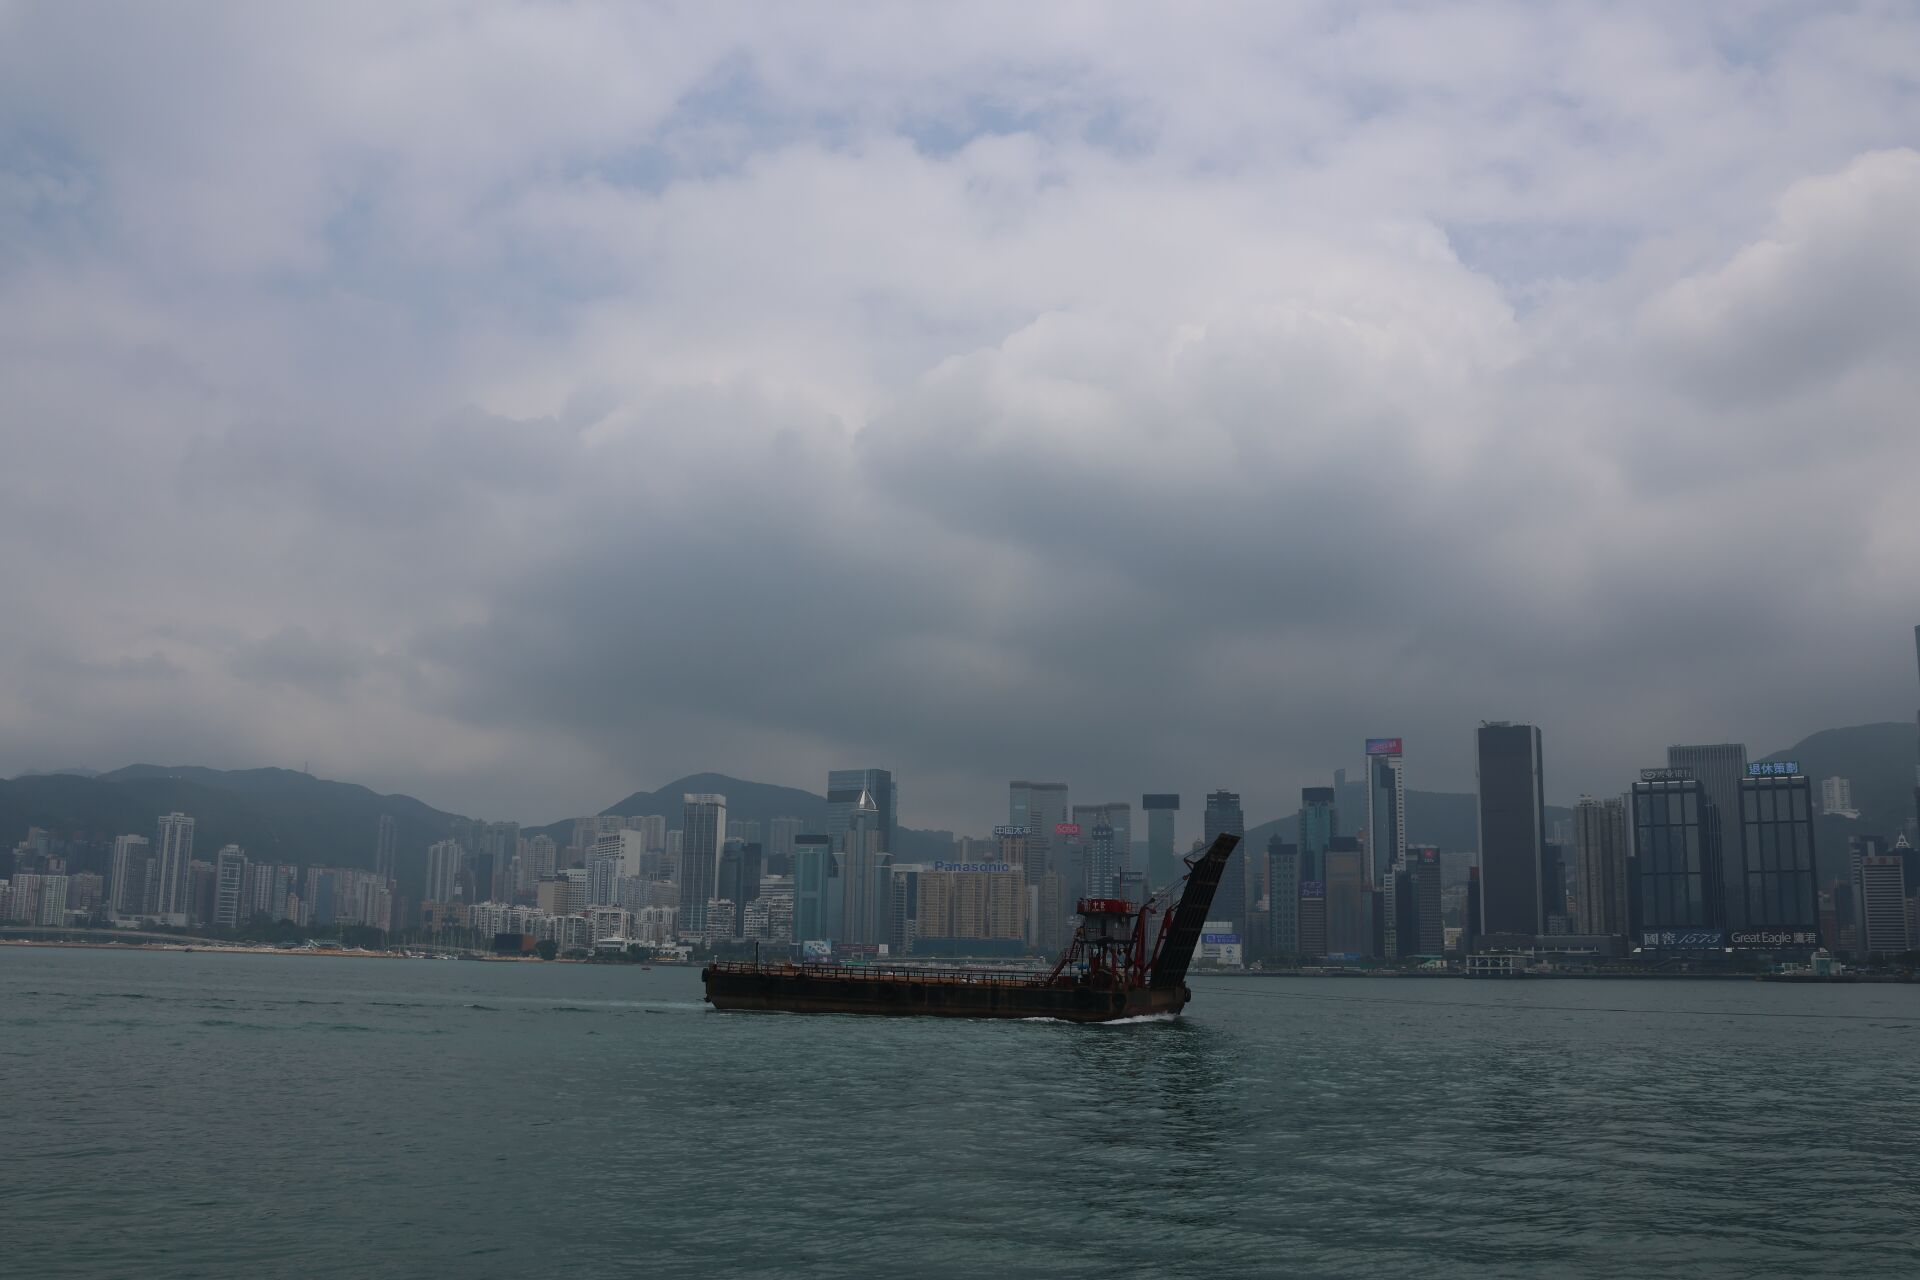Cumulus: (897, 91, 1919, 716), (379, 270, 1209, 759)
